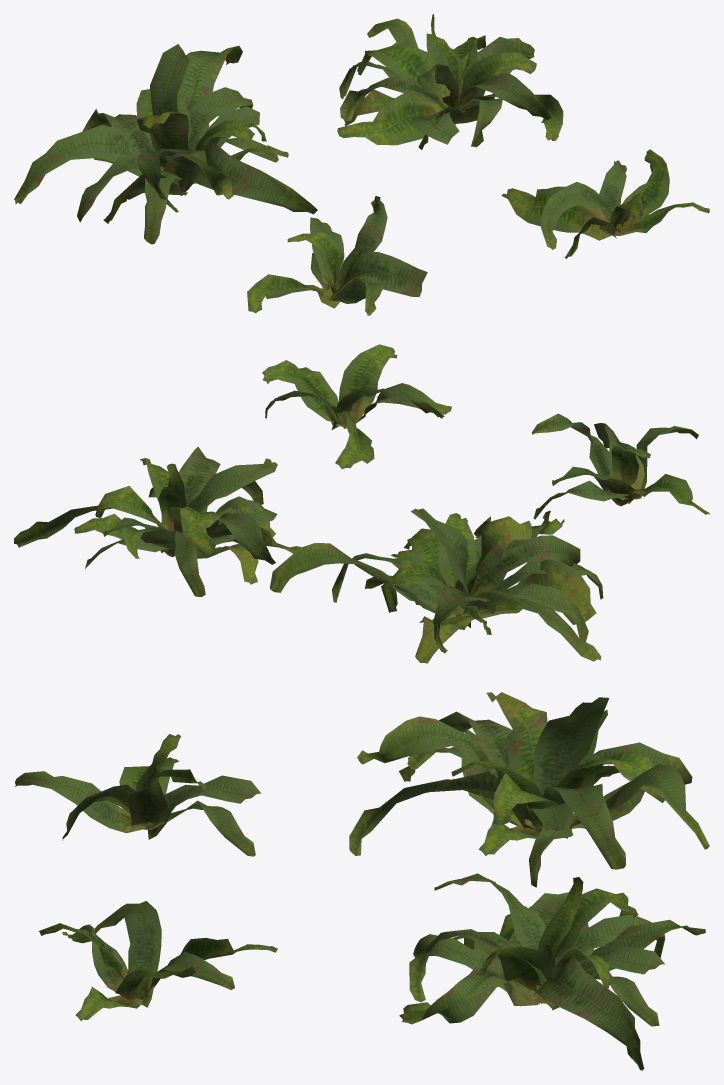
File: fern.glb
3 views of the same model, one above another, from view 1: azimuth 30°, elevation 25°; view 2: azimuth 150°, elevation 25°; view 3: azimuth 270°, elevation 25° (orthographic). The views are drawn at different scales.
Parts seen in each view (by area): view 1: fern_02_b, fern_02_c, fern_02_d, fern_02_a; view 2: fern_02_b, fern_02_c, fern_02_d, fern_02_a; view 3: fern_02_b, fern_02_c, fern_02_a, fern_02_d.
Part boxes in pixels (x1,y1,x2,y2): fern_02_b: (14, 44, 317, 244); fern_02_c: (337, 14, 563, 149); fern_02_d: (501, 149, 709, 258); fern_02_a: (247, 196, 427, 315); fern_02_b: (270, 508, 603, 663); fern_02_c: (14, 447, 301, 596); fern_02_d: (262, 344, 451, 469); fern_02_a: (531, 413, 709, 519); fern_02_b: (349, 692, 709, 887); fern_02_c: (399, 873, 705, 1070); fern_02_a: (15, 734, 261, 856); fern_02_d: (39, 901, 277, 1020).
Bounding box in the file's own units: 1.97 × 0.4277 × 1.72.
Materials: 1 (1 with a texture image).
